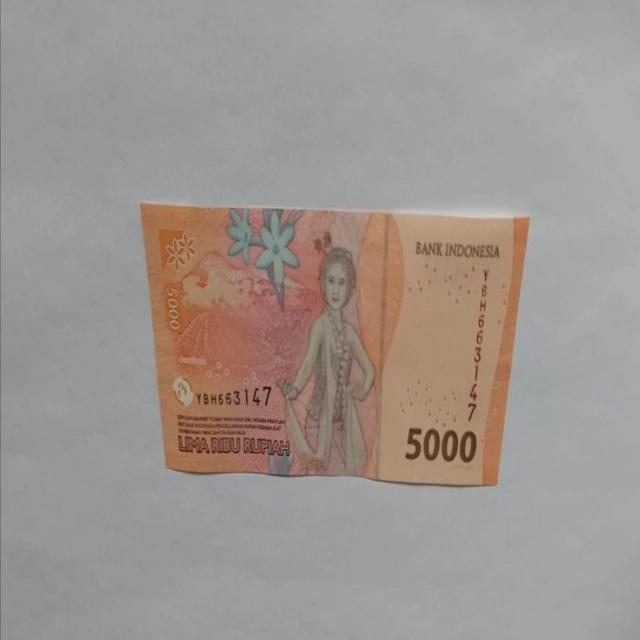lima ribu rupiah: (140, 200, 530, 487), (274, 246, 376, 477)
